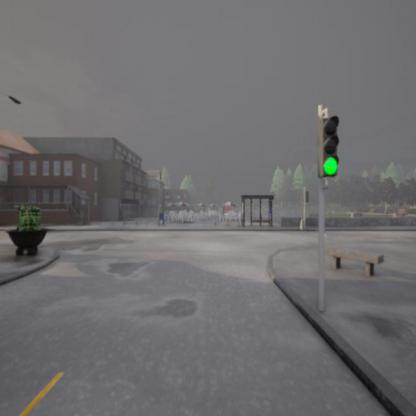traffic_light_green: (318, 117, 340, 178)
